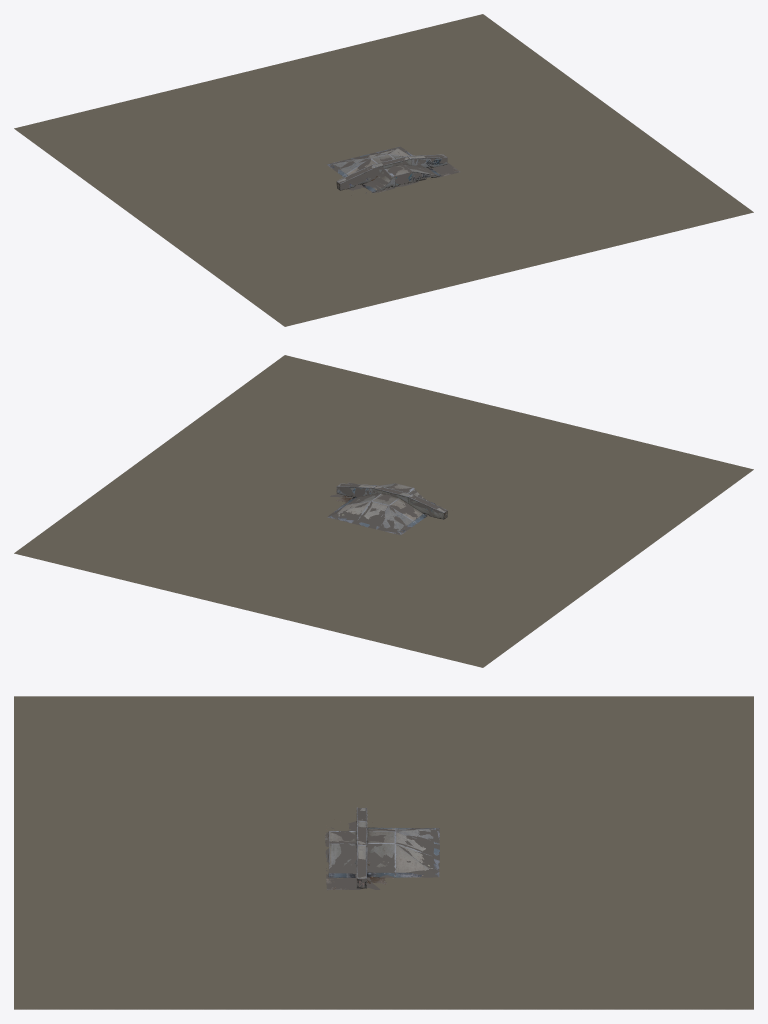
File: funbox.glb
3 renders of one model, top to bottom at view 1: azimuth 30°, elevation 25°; view 2: azimuth 150°, elevation 25°; view 3: azimuth 270°, elevation 25°, orthographic. The views are drawn at different scales.
Parts seen in each view (by area): view 1: COL_Ground, COL_Funbox, ENV_Concrete_ground@q#0; view 2: COL_Ground, COL_Funbox, ENV_Concrete_ground@q#0; view 3: COL_Ground, COL_Funbox, ENV_Scan_alpha@q122222#0, ENV_Scan_alpha@q122222#2, ENV_Concrete_ground@q#0, ENV_Scan_alpha@q122222#1.
Boxes of the visible parts, x1,y1,x2,y2 form: COL_Ground: (14,14,753,326); COL_Funbox: (326,146,458,193); ENV_Concrete_ground@q#0: (15,129,753,326); COL_Ground: (14,355,753,667); COL_Funbox: (328,483,447,535); ENV_Concrete_ground@q#0: (14,470,752,667); COL_Ground: (14,696,753,1009); COL_Funbox: (325,808,439,889); ENV_Scan_alpha@q122222#0: (384,837,439,884); ENV_Scan_alpha@q122222#2: (384,837,439,880); ENV_Concrete_ground@q#0: (14,1009,753,1009); ENV_Scan_alpha@q122222#1: (384,837,439,883).
Bounding box in the file's own units: 40 × 1.37 × 40.
Materials: 3 (3 with a texture image).
